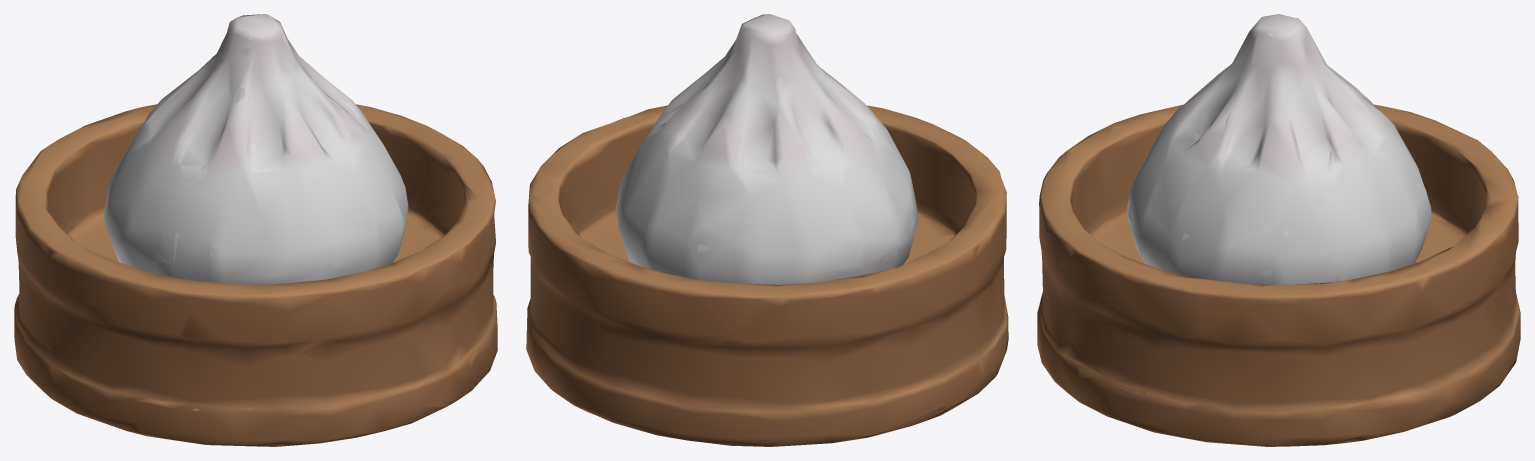
The model's file is gen3d-dumpling-lod0.glb.
The picture shows the model from 3 angles, left to right: view 1: azimuth 30°, elevation 25°; view 2: azimuth 150°, elevation 25°; view 3: azimuth 270°, elevation 25°; orthographic projection.
Parts seen in each view (by area): view 1: part_0; view 2: part_0; view 3: part_0.
Boxes of the visible parts, <box> form: part_0: <box>14,14,497,446</box>; part_0: <box>526,14,1008,446</box>; part_0: <box>1037,14,1520,446</box>.
Bounding box in the file's own units: 1.35 × 0.9999 × 1.35.
